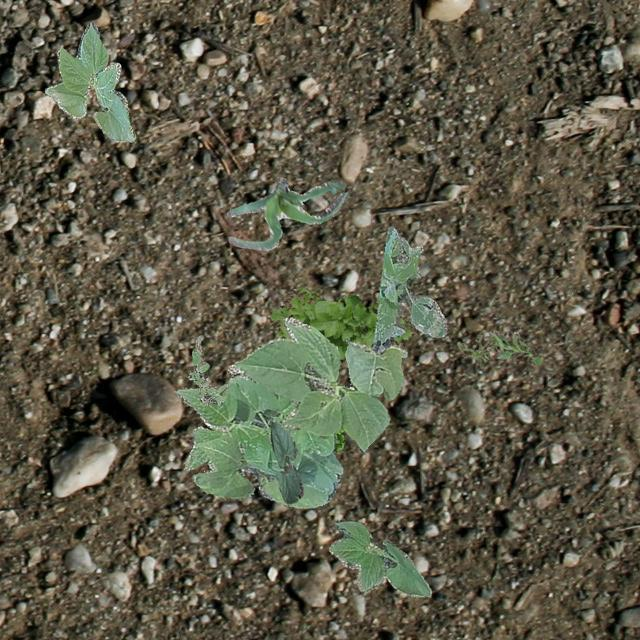crop: (226, 316, 402, 452), (174, 374, 342, 506), (44, 21, 134, 140), (225, 177, 348, 250), (328, 518, 430, 596), (270, 420, 302, 502)
weed: (268, 286, 414, 361), (372, 225, 446, 358), (188, 334, 228, 406), (486, 328, 540, 364), (456, 334, 500, 366), (332, 426, 343, 449)
